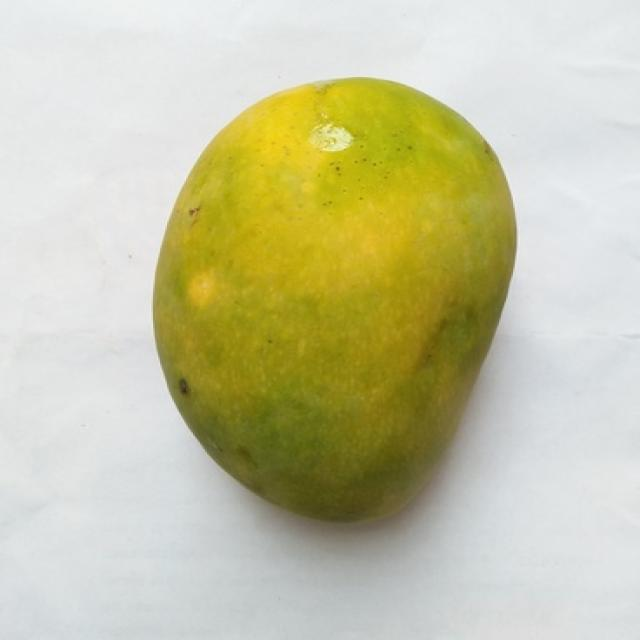Mango: (153, 78, 511, 520)
